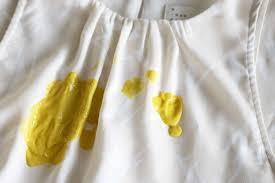lipstick: (40, 73, 107, 163), (27, 104, 68, 169), (156, 91, 184, 140), (124, 73, 144, 95), (143, 68, 156, 83)
